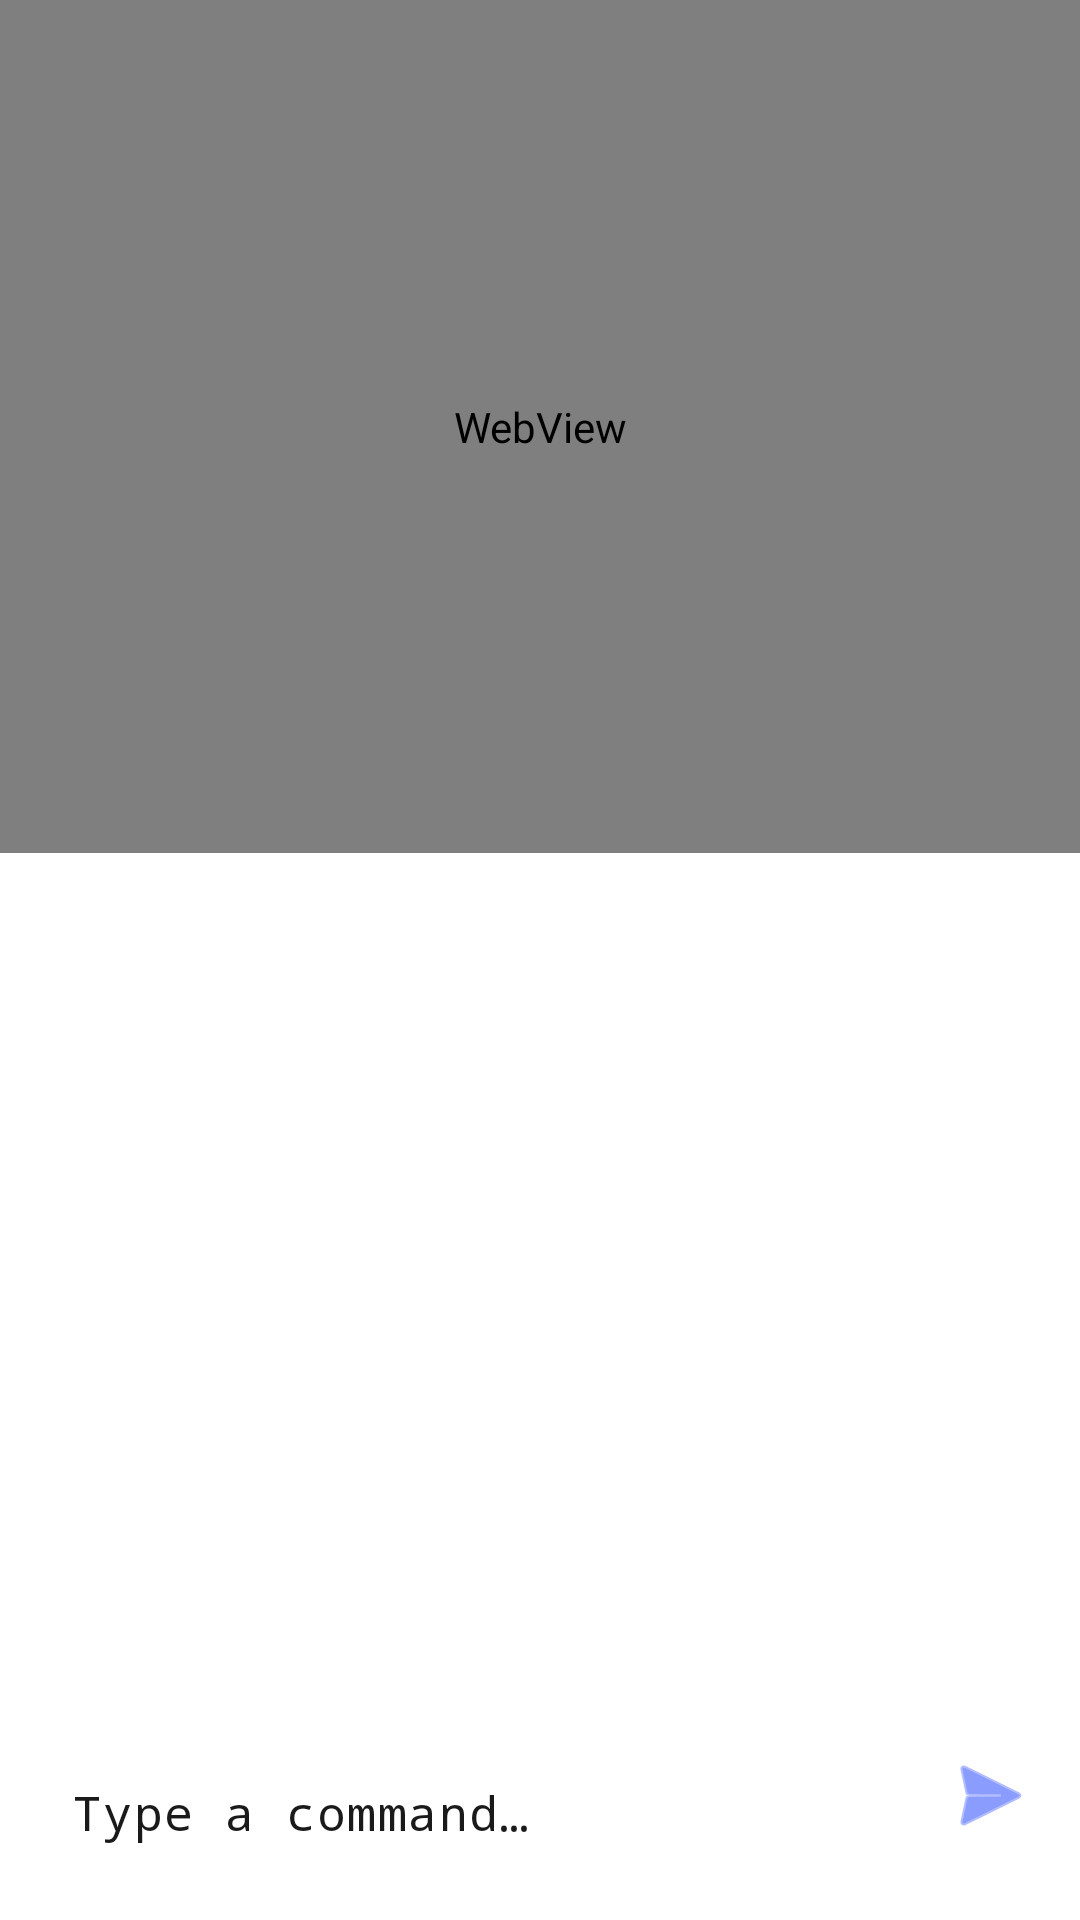

Screen size 1080 x 1920. Icon name, then its box in pixels as (x1, y1, x2, y2):
Send: (960, 1765, 1022, 1826)
